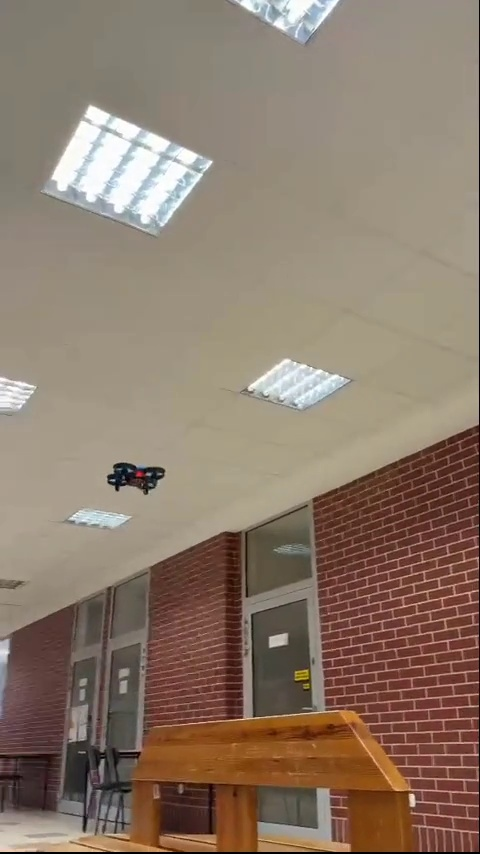drone: (106, 463, 164, 495)
